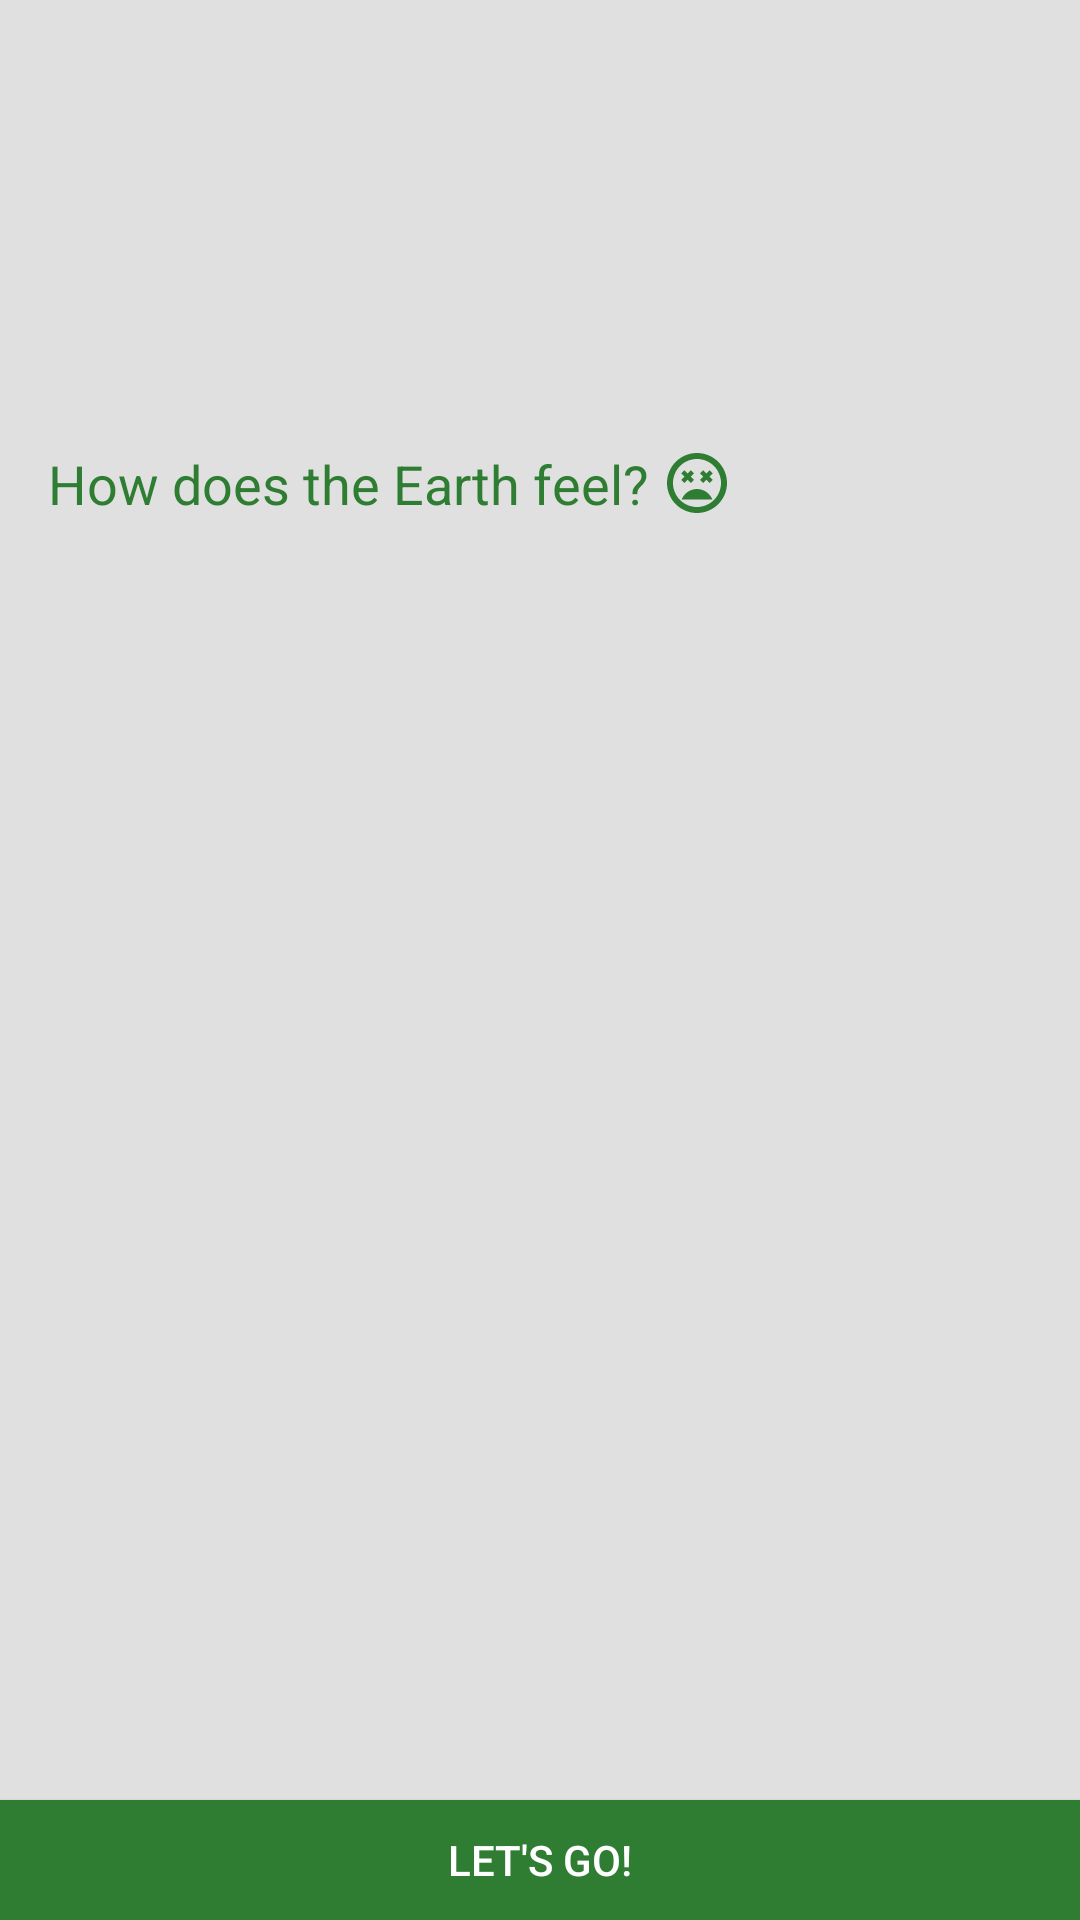

Where icons sit on this 1080 × 1920 app screen, as (x1, y1, x2, y2):
dead: (667, 453, 727, 513)
